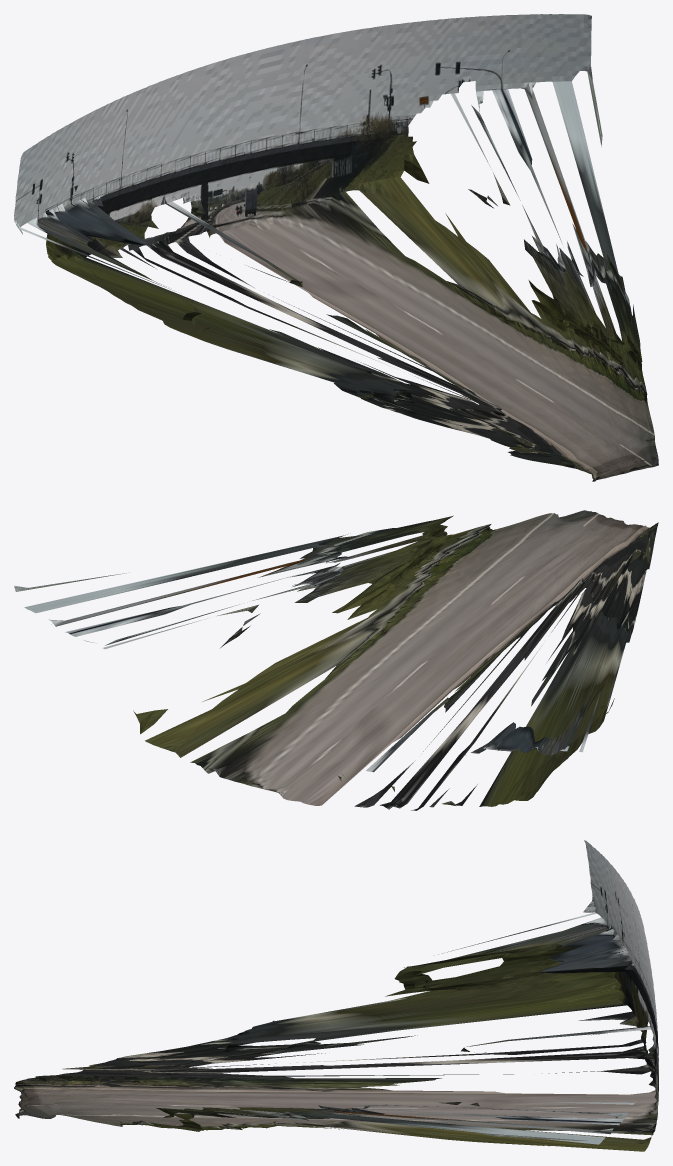
3 views of the same model, one above another, from view 1: azimuth 30°, elevation 25°; view 2: azimuth 150°, elevation 25°; view 3: azimuth 270°, elevation 25° (orthographic). The views are drawn at different scales.
Parts seen in each view (by area): view 1: defaultobject; view 2: defaultobject; view 3: defaultobject.
Boxes of the visible parts, <box> form: defaultobject: <box>14,14,658,481</box>; defaultobject: <box>14,510,658,810</box>; defaultobject: <box>14,840,658,1151</box>.
Bounding box in the file's own units: 40.98 × 12.41 × 44.57.
Materials: 1 (1 with a texture image).
